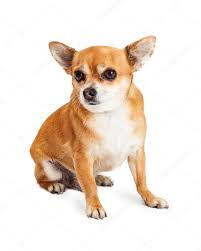chihuahua: (23, 32, 179, 217)
